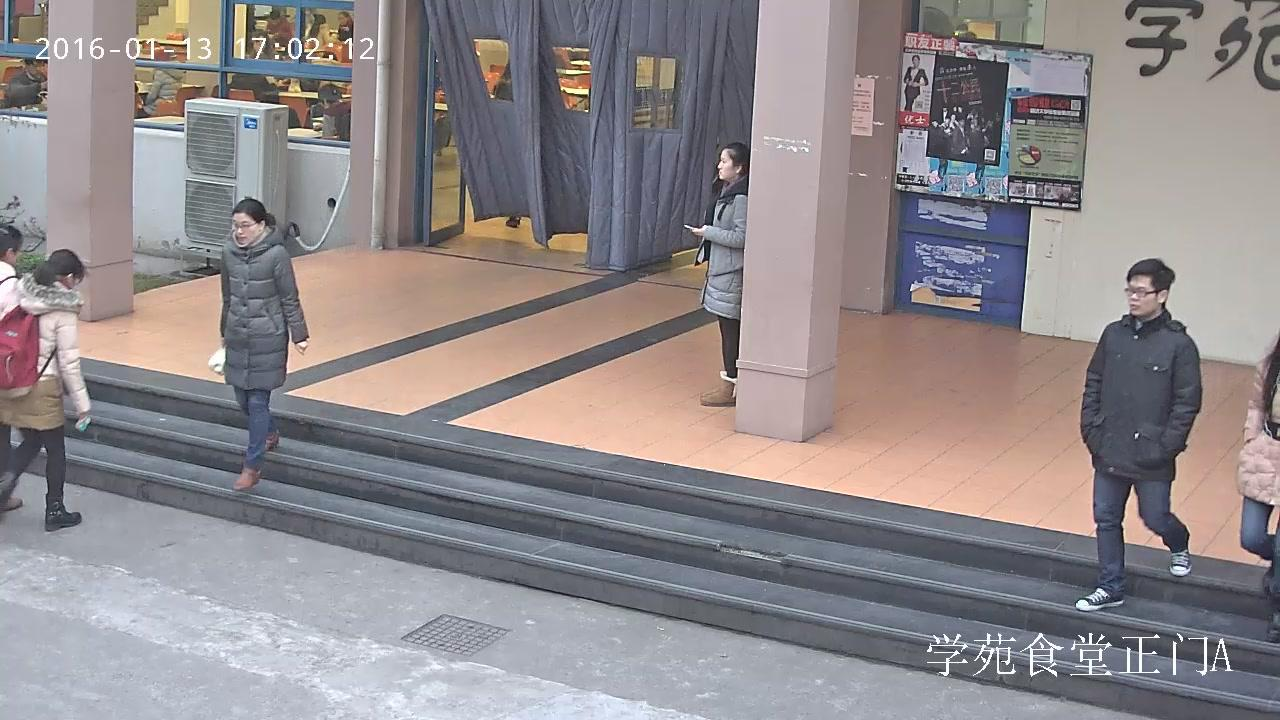person: (1074, 257, 1202, 611), (207, 198, 310, 491), (0, 249, 91, 531), (683, 141, 750, 410), (1237, 330, 1280, 643), (135, 46, 181, 118), (317, 82, 352, 142), (7, 57, 48, 108), (902, 55, 928, 112), (306, 13, 329, 58), (265, 9, 291, 46), (335, 11, 354, 50)
